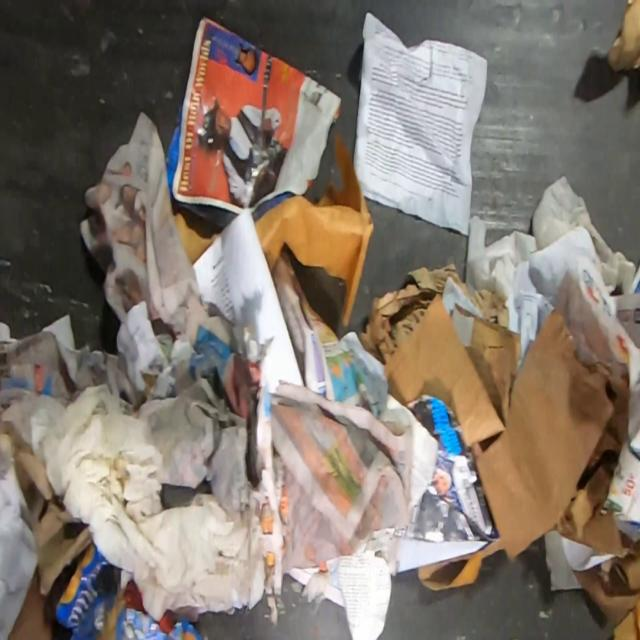cardboard: (474, 308, 630, 560), (382, 275, 520, 461), (570, 531, 640, 624), (606, 0, 640, 74)
soft_plastic: (54, 541, 208, 640)
